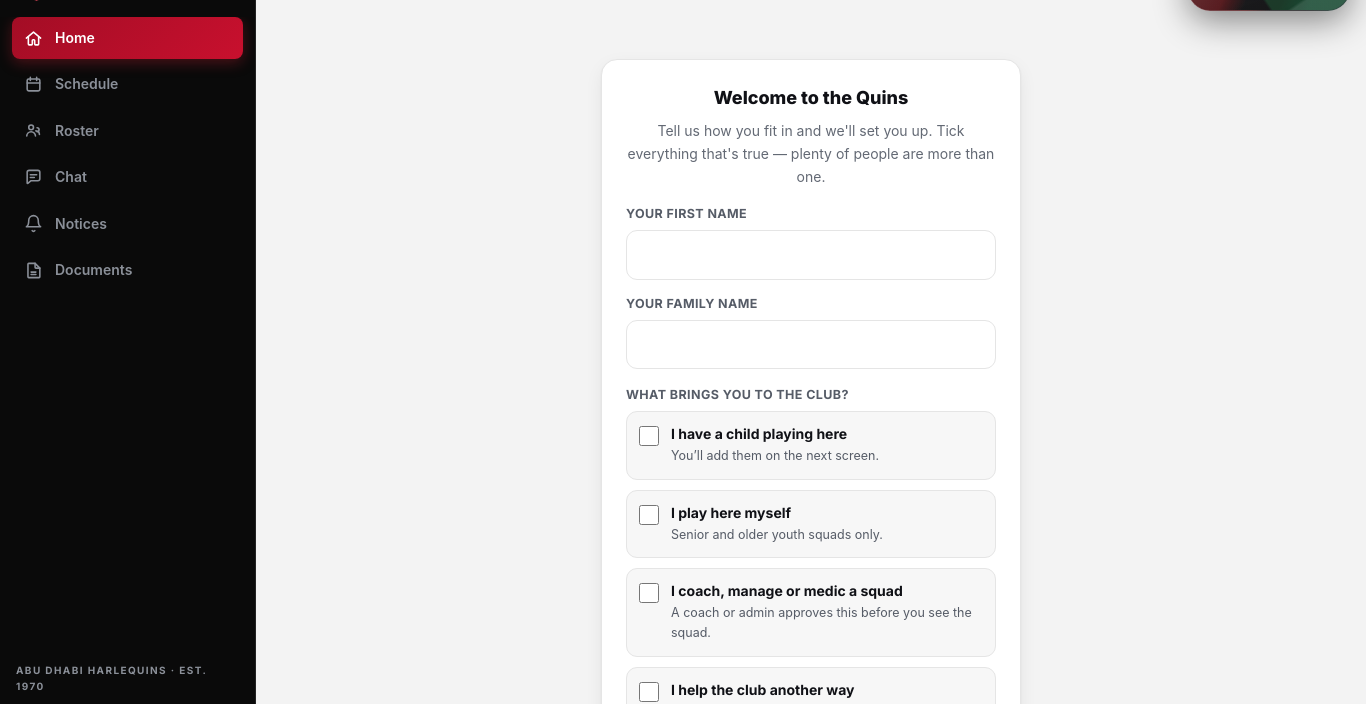
Test case: AppShell › treats a leaver (only "left" memberships) the same as zero memberships
The width and height of the screenshot is (1366, 704).
Click the checkbox labelled "child playing here" at coordinates (649, 436), box [639,426,659,446]
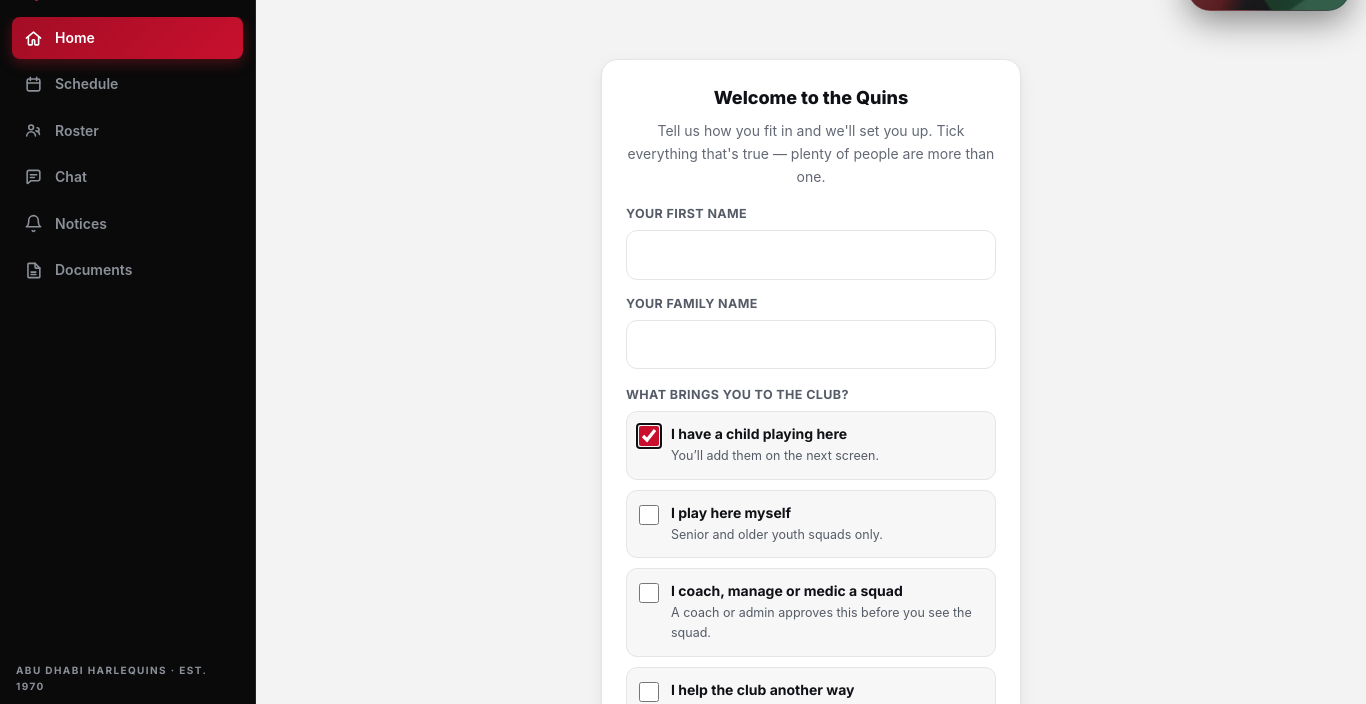
Type "Jay" into the field labelled "Your first name" at coordinates (811, 255), box [626,230,996,280]
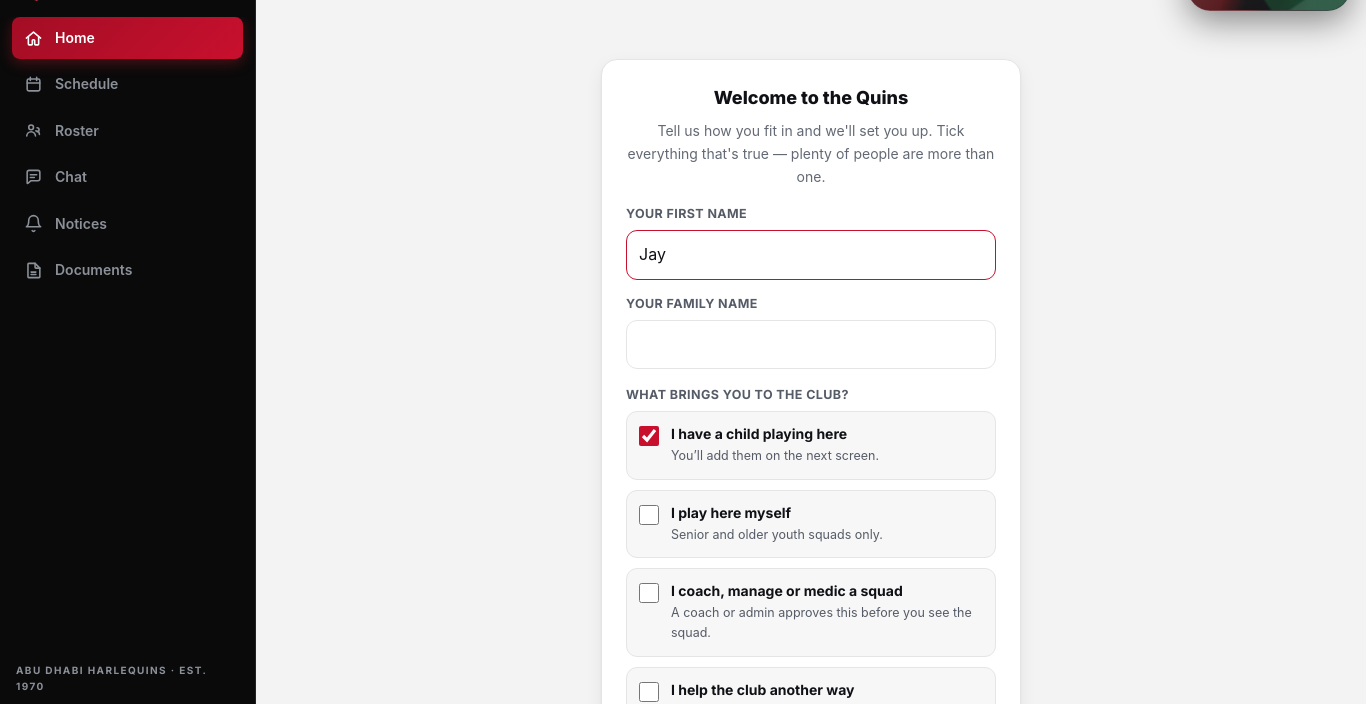
Type "Tester" into the field labelled "Your family name" at coordinates (811, 345), box [626,320,996,369]
(page scrolled)
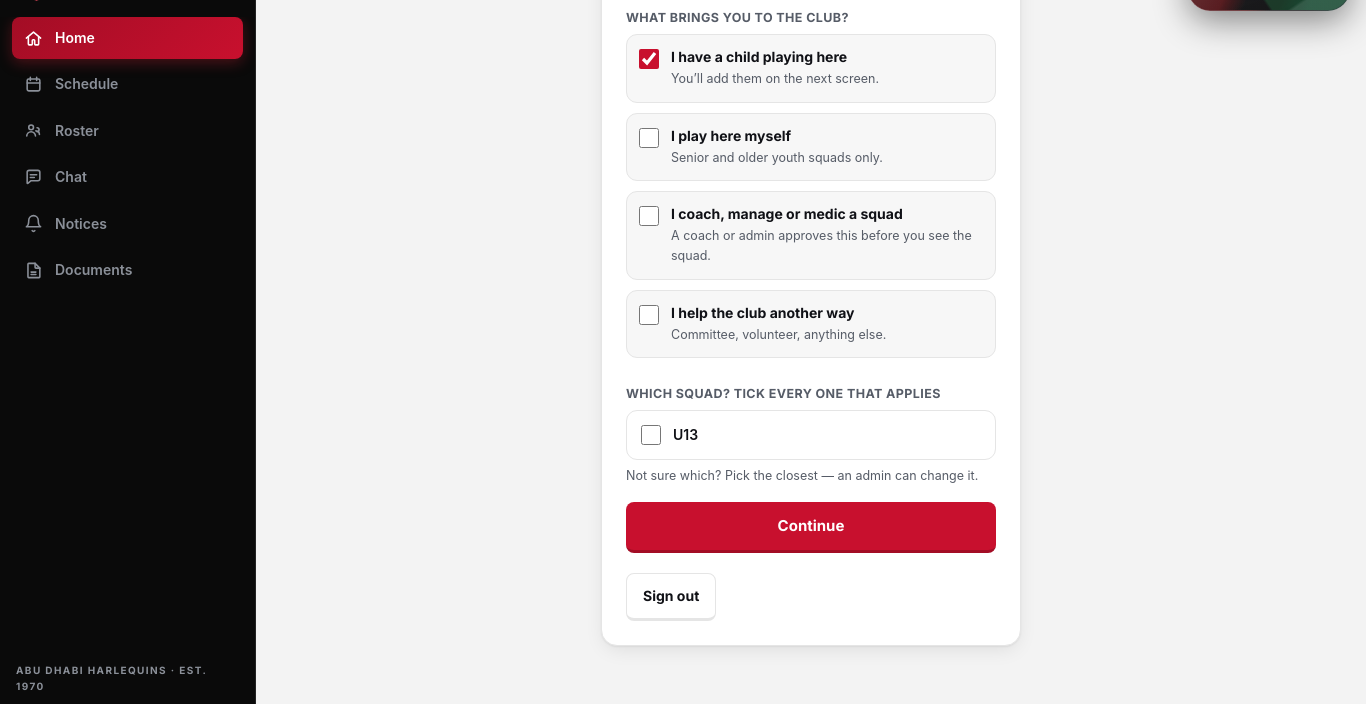
Click the checkbox labelled "U13" at coordinates (651, 435), box [641,425,661,445]
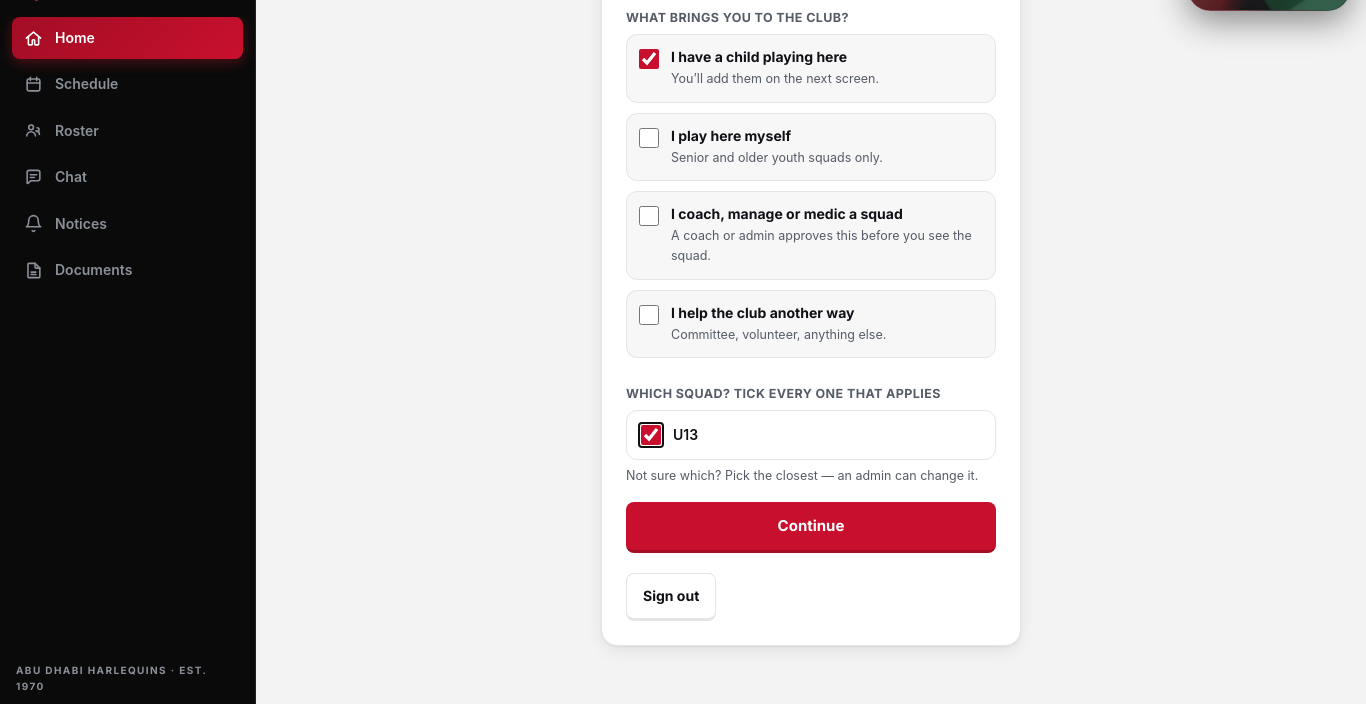
Click the button "Continue" at coordinates (811, 528), box [626,502,996,553]
(page scrolled)
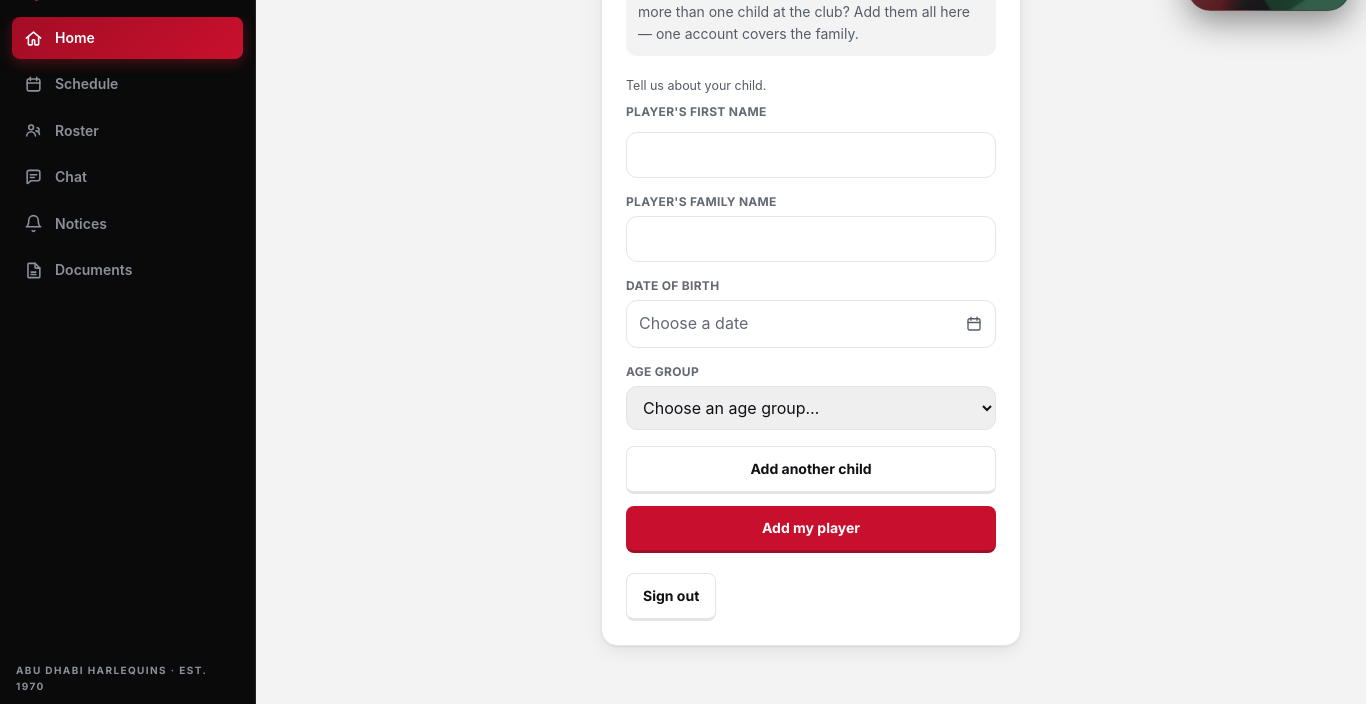
Expected: the button "Sign out" is shown, [626,573,716,621]
Now the button "Add my player" is shown, box [626,506,996,553]
